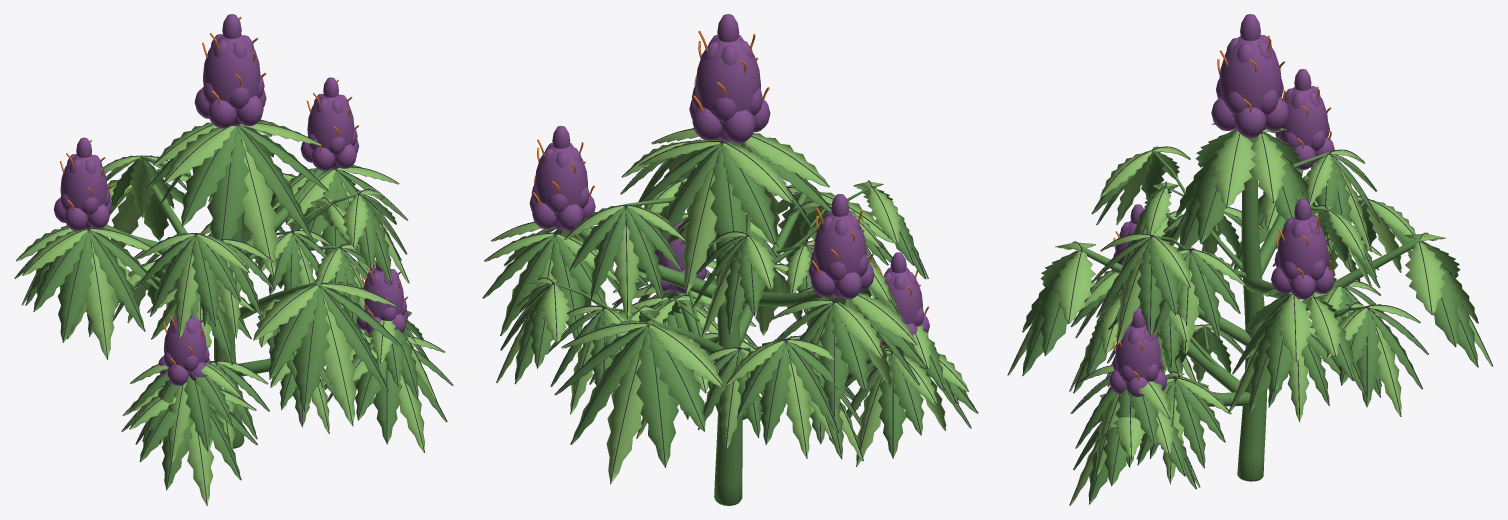
Rendered from herb_ripe.glb.
3 renders of one model, left to right at view 1: azimuth 30°, elevation 25°; view 2: azimuth 150°, elevation 25°; view 3: azimuth 270°, elevation 25°, orthographic. The views are drawn at different scales.
Visible parts, largest first — view 1: cannabis_compact_Geometry; view 2: cannabis_compact_Geometry; view 3: cannabis_compact_Geometry.
Boxes of the visible parts, x1,y1,x2,y2 form: cannabis_compact_Geometry: [14, 14, 453, 505]; cannabis_compact_Geometry: [482, 14, 978, 505]; cannabis_compact_Geometry: [1007, 14, 1493, 505].
Size of the model in its own units: 0.6266 by 0.6866 by 0.6496.
